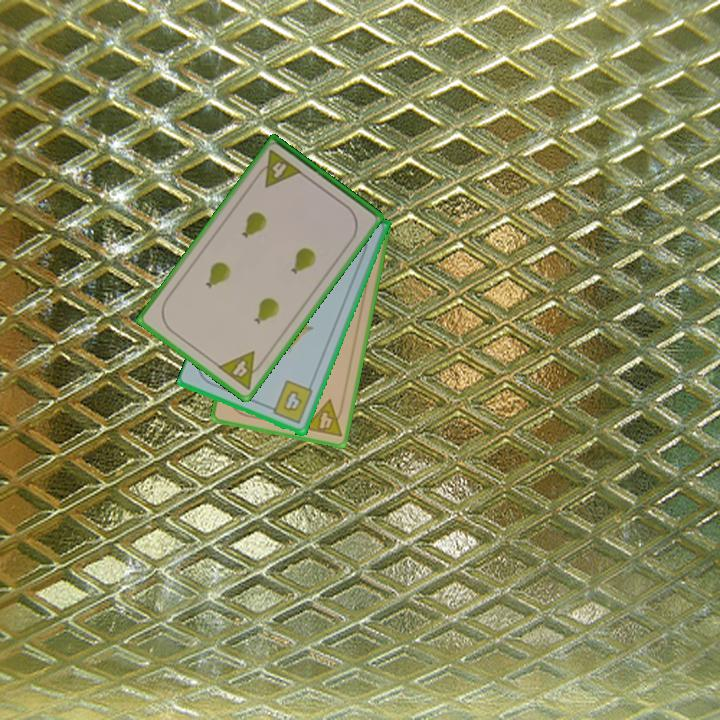4b: (264, 377, 316, 427)
4p: (214, 347, 268, 393), (252, 146, 305, 190), (300, 396, 347, 440)
